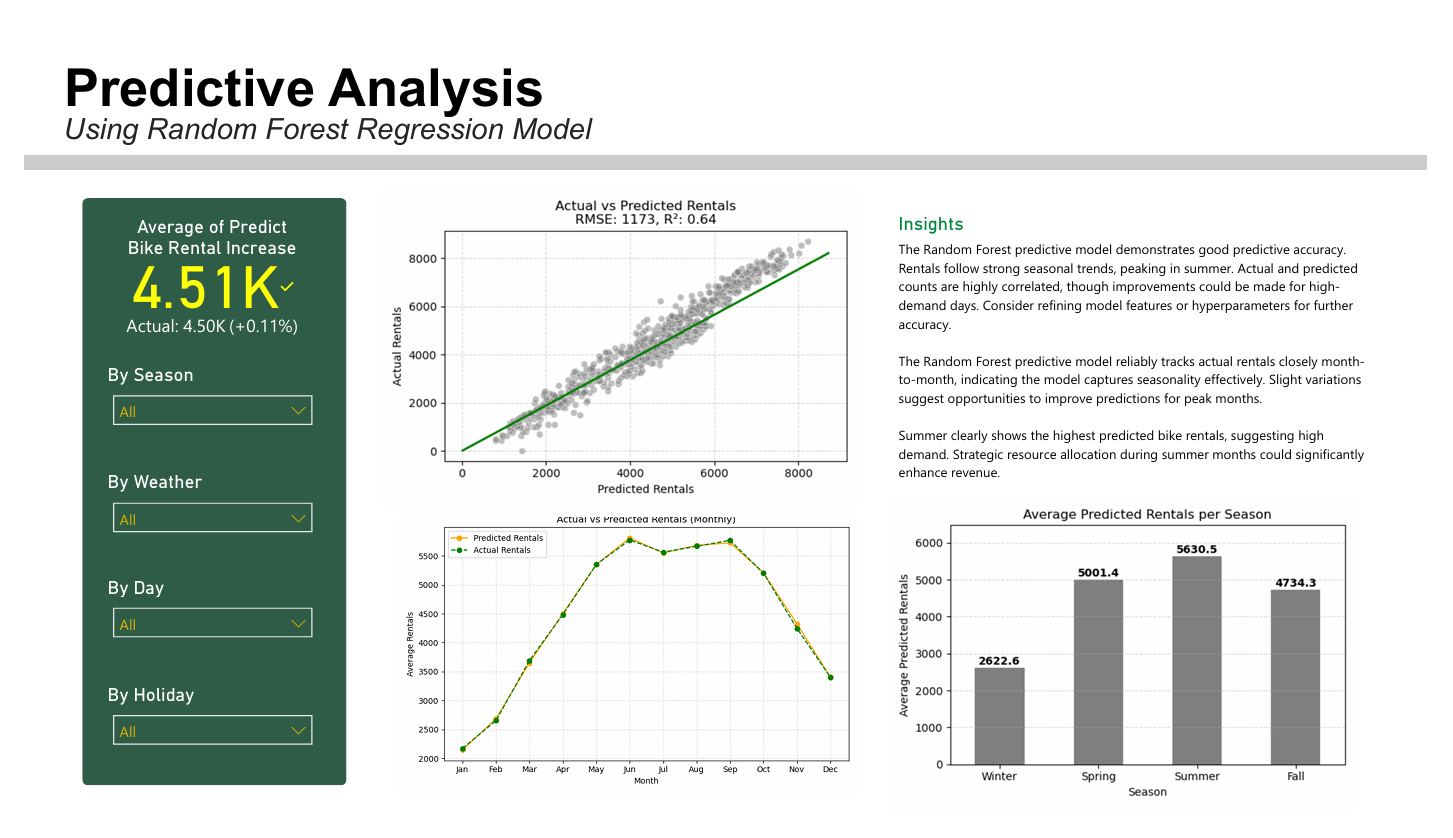

The page's visual inventory and layout, read from the dashboard file:
{"tool":"powerbi","page":{"name":"Predictive Analysis Insights","canvas":[1280,720],"ordinal":4},"visuals":[{"type":"shape","box":[52.6,157,241.5,536.5],"z":500},{"type":"kpi","title":"Average of Predict Bike Rental Increase","fields":{"Indicator":["Avg(bike_dataset_clean.predicted_cnt)"],"TrendLine":["bike_dataset_clean.dteday"],"Goal":["Avg(bike_dataset_clean.cnt)"]},"box":[85.7,172.5,171.4,113.9],"z":1000},{"type":"shape","box":[0,117.5,1280.4,13.4],"z":2000},{"type":"textbox","box":[30.9,23.7,513.4,69.1],"z":3000},{"type":"textbox","box":[31,74,553,43],"z":4000},{"type":"slicer","title":"By Season","fields":{"Values":["bike_dataset_clean.Season_Label"]},"box":[71,307.9,201.9,85.7],"z":5000},{"type":"slicer","title":"By Weather","fields":{"Values":["bike_dataset_clean.Weather_Label"]},"box":[71,406,201.9,83.5],"z":6000},{"type":"slicer","title":"By Day","fields":{"Values":["bike_dataset_clean.weekday_label"]},"box":[71,501.9,201.9,85.7],"z":7000},{"type":"slicer","title":"By Holiday","fields":{"Values":["bike_dataset_clean.Holiday_Label"]},"box":[71,600,201.9,83.5],"z":8000},{"type":"pythonVisual","fields":{"Values":["bike_dataset_clean.mnth","bike_dataset_clean.cnt","bike_dataset_clean.predicted_cnt"]},"box":[333.8,434.2,433.1,271.8],"z":10000},{"type":"pythonVisual","fields":{"Values":["bike_dataset_clean.predicted_cnt","bike_dataset_clean.Season_Label"]},"box":[766.9,425.2,470.3,294.3],"z":11000},{"type":"pythonVisual","fields":{"Values":["bike_dataset_clean.cnt","bike_dataset_clean.predicted_cnt"]},"box":[320.3,139.8,446.6,307.9],"z":11500},{"type":"textbox","title":"Insights","box":[792.8,170.3,444.3,254.9],"z":12000}]}

Visuals, with their boxes in screenshot pixels (x1, y1, x2, y2), scaled from the page's 1280x720 canvas onto the 1453x838 screenshot:
shape: <bbox>60, 183, 334, 807</bbox>
"Average of Predict Bike Rental Increase" kpi: <bbox>97, 201, 292, 333</bbox>
shape: <bbox>0, 137, 1452, 152</bbox>
textbox: <bbox>35, 28, 618, 108</bbox>
textbox: <bbox>35, 86, 663, 136</bbox>
"By Season" slicer: <bbox>81, 358, 310, 458</bbox>
"By Weather" slicer: <bbox>81, 473, 310, 570</bbox>
"By Day" slicer: <bbox>81, 584, 310, 684</bbox>
"By Holiday" slicer: <bbox>81, 698, 310, 796</bbox>
pythonVisual - bike_dataset_clean.mnth x bike_dataset_clean.cnt: <bbox>379, 505, 871, 822</bbox>
pythonVisual - bike_dataset_clean.predicted_cnt x bike_dataset_clean.Season_Label: <bbox>871, 495, 1404, 837</bbox>
pythonVisual - bike_dataset_clean.cnt x bike_dataset_clean.predicted_cnt: <bbox>364, 163, 871, 521</bbox>
"Insights" textbox: <bbox>900, 198, 1404, 495</bbox>
